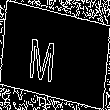M_N: (40, 27, 70, 83)
